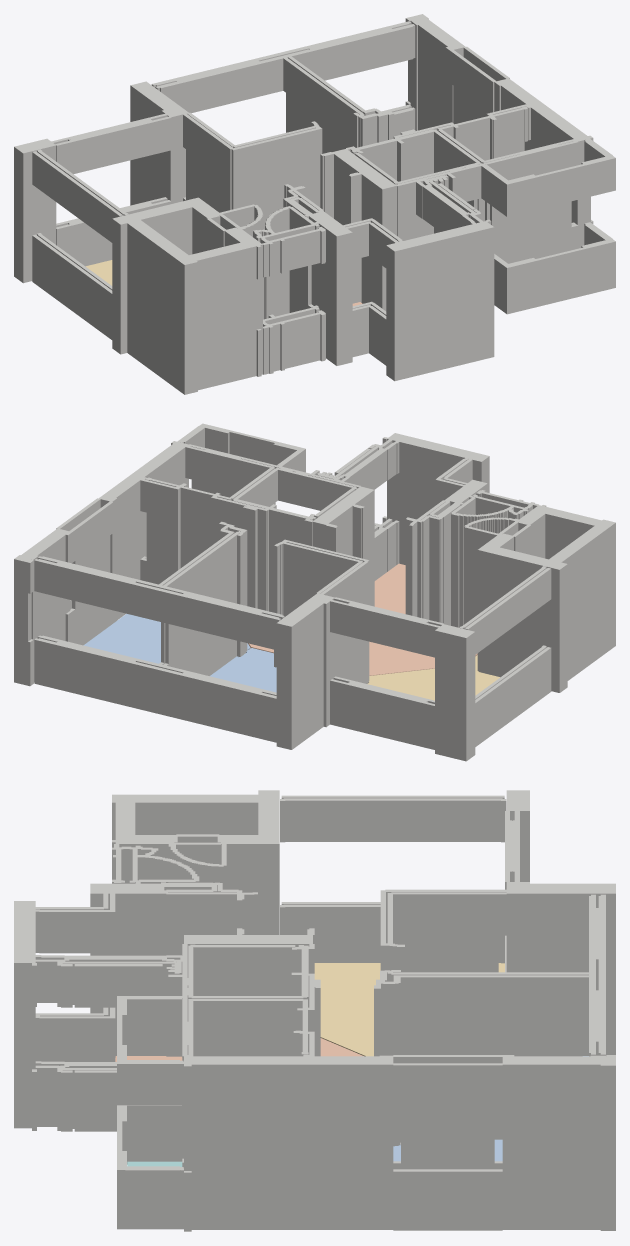
3 views of the same model, one above another, from view 1: azimuth 30°, elevation 25°; view 2: azimuth 150°, elevation 25°; view 3: azimuth 270°, elevation 25° (orthographic). The views are drawn at different scales.
Visible parts, largest first — view 1: walls; view 2: walls, room:bedroom:1, room:bedroom:0, room:living:2, room:kitchen:3, room:kitchen:6; view 3: walls, room:living:2.
Part boxes in pixels (<box>): walls: <box>14,14,615,394</box>; walls: <box>14,423,615,761</box>; room:bedroom:1: <box>83,614,250,663</box>; room:bedroom:0: <box>210,648,276,692</box>; room:living:2: <box>367,655,499,700</box>; room:kitchen:3: <box>248,641,477,675</box>; room:kitchen:6: <box>374,563,405,613</box>; walls: <box>14,790,615,1231</box>; room:living:2: <box>314,963,504,1056</box>.
Size of the model in its own units: 10.01 by 2.8 by 9.24.
